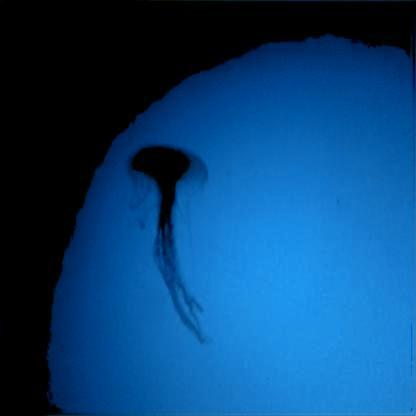Moon: (125, 145, 214, 346)
